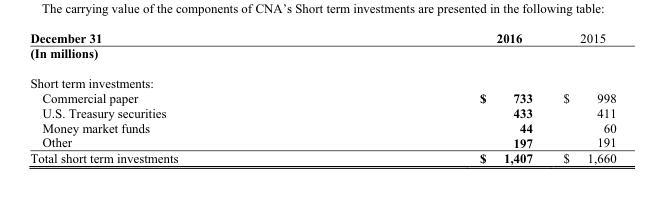table: (29, 28, 615, 166)
table column: (29, 28, 328, 166), (328, 28, 547, 166), (547, 28, 615, 166)
table column header: (29, 28, 615, 45)
table projected row header: (29, 45, 615, 67), (29, 67, 615, 89)
table row: (29, 45, 615, 67), (29, 67, 615, 89), (29, 28, 615, 45), (29, 149, 615, 166), (29, 89, 615, 104), (29, 104, 615, 119), (29, 119, 615, 134), (29, 134, 615, 149)
